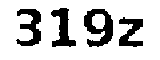1: (47, 5, 83, 49)
3: (10, 9, 46, 52)
9: (83, 7, 116, 51)
z: (118, 16, 147, 52)
